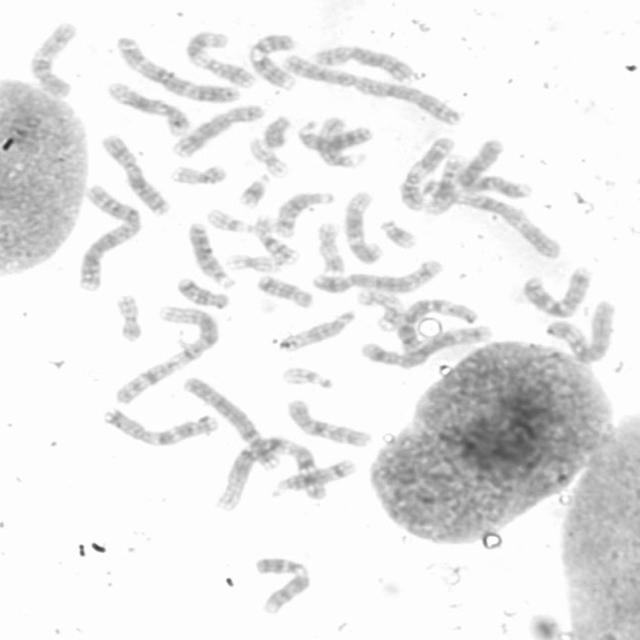A1: (111, 304, 221, 406), (213, 436, 329, 513)
A2: (281, 51, 464, 129), (72, 182, 143, 290)
A3: (418, 176, 562, 262), (116, 35, 244, 103)
B4: (180, 376, 280, 472), (455, 138, 535, 200)
B5: (358, 326, 495, 370), (312, 257, 444, 294)
C10: (285, 400, 371, 448), (28, 20, 79, 99)
C11: (396, 136, 454, 213), (184, 30, 255, 90)
C12: (106, 80, 190, 138), (343, 187, 385, 265)
C6: (545, 297, 616, 367), (397, 299, 478, 353)
C7: (101, 406, 220, 448), (521, 264, 595, 320)
C8: (171, 102, 265, 160), (308, 45, 418, 86)
C9: (250, 556, 313, 616), (246, 33, 301, 90)
D13: (188, 222, 237, 290), (297, 119, 376, 153)
D14: (269, 457, 358, 499), (274, 190, 335, 238)
D15: (278, 309, 357, 354), (317, 114, 369, 167)
E16: (250, 214, 302, 266), (430, 152, 466, 212)
E17: (356, 286, 407, 332), (316, 221, 346, 277)
E18: (257, 274, 316, 311), (175, 276, 230, 310)
F19: (249, 136, 290, 180), (224, 252, 277, 273)
F20: (114, 293, 147, 343), (171, 163, 229, 186)
G21: (376, 216, 420, 252), (237, 171, 271, 208)
G22: (278, 364, 339, 391), (205, 207, 254, 235)
X: (101, 133, 173, 217)
Y: (262, 114, 293, 149)
